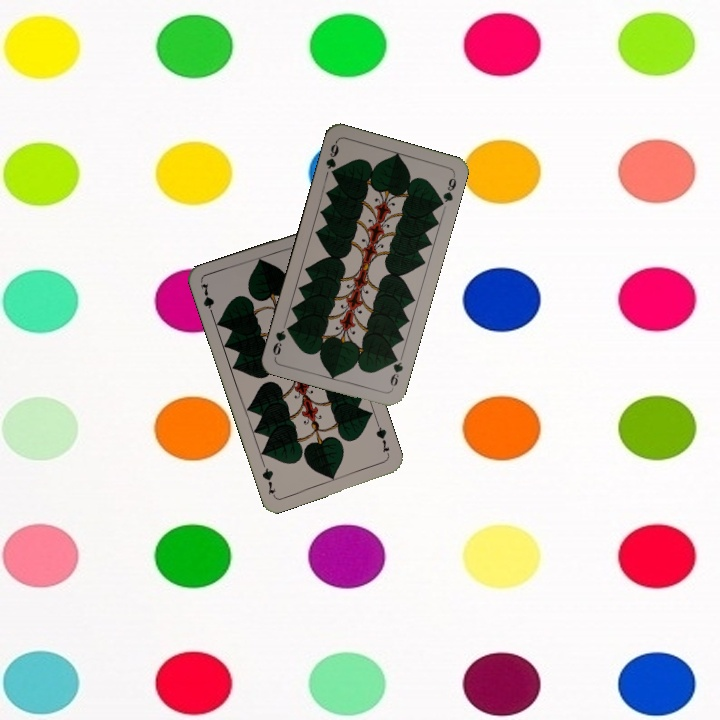G7: (197, 279, 217, 319), (372, 419, 392, 459)
G9: (386, 351, 406, 392), (322, 138, 341, 179)
